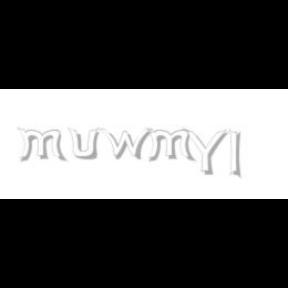Y: (182, 128, 228, 176)
l: (229, 128, 245, 180)
m: (16, 128, 68, 162), (145, 128, 197, 162)
u: (68, 128, 102, 160)
w: (97, 128, 156, 160)
